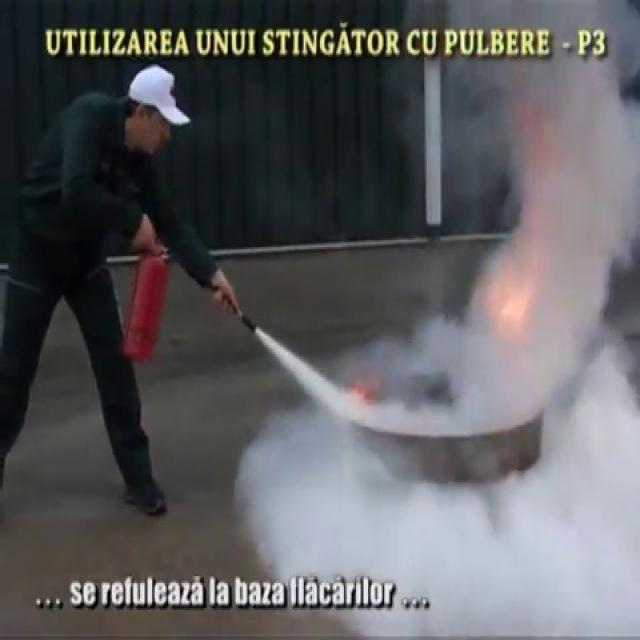Smoke: (396, 0, 640, 635)
